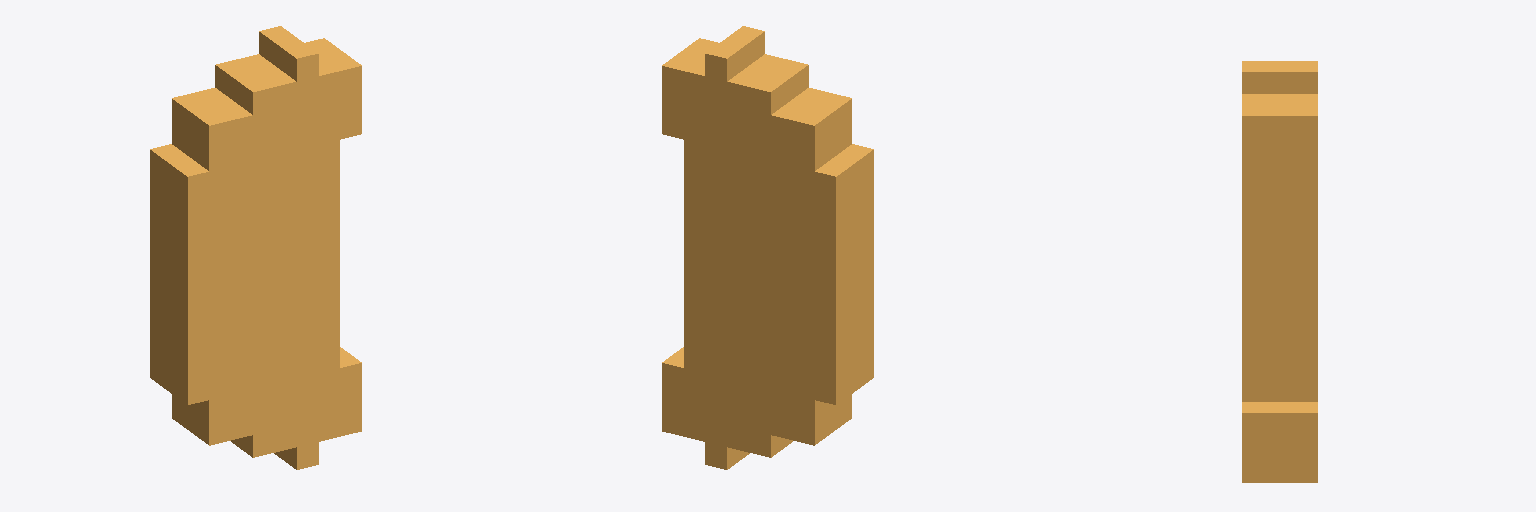
The picture shows the model from 3 angles: view 1: azimuth 30°, elevation 25°; view 2: azimuth 150°, elevation 25°; view 3: azimuth 270°, elevation 25°; orthographic projection.
Parts seen in each view (by area): view 1: Tunnel1; view 2: Tunnel1; view 3: Tunnel1.
Boxes of the visible parts, <box> form: Tunnel1: <box>150,26,361,469</box>; Tunnel1: <box>662,26,873,469</box>; Tunnel1: <box>1242,61,1317,482</box>.
Size of the model in its own units: 8 by 18 by 3.
1 materials, 1 textured.